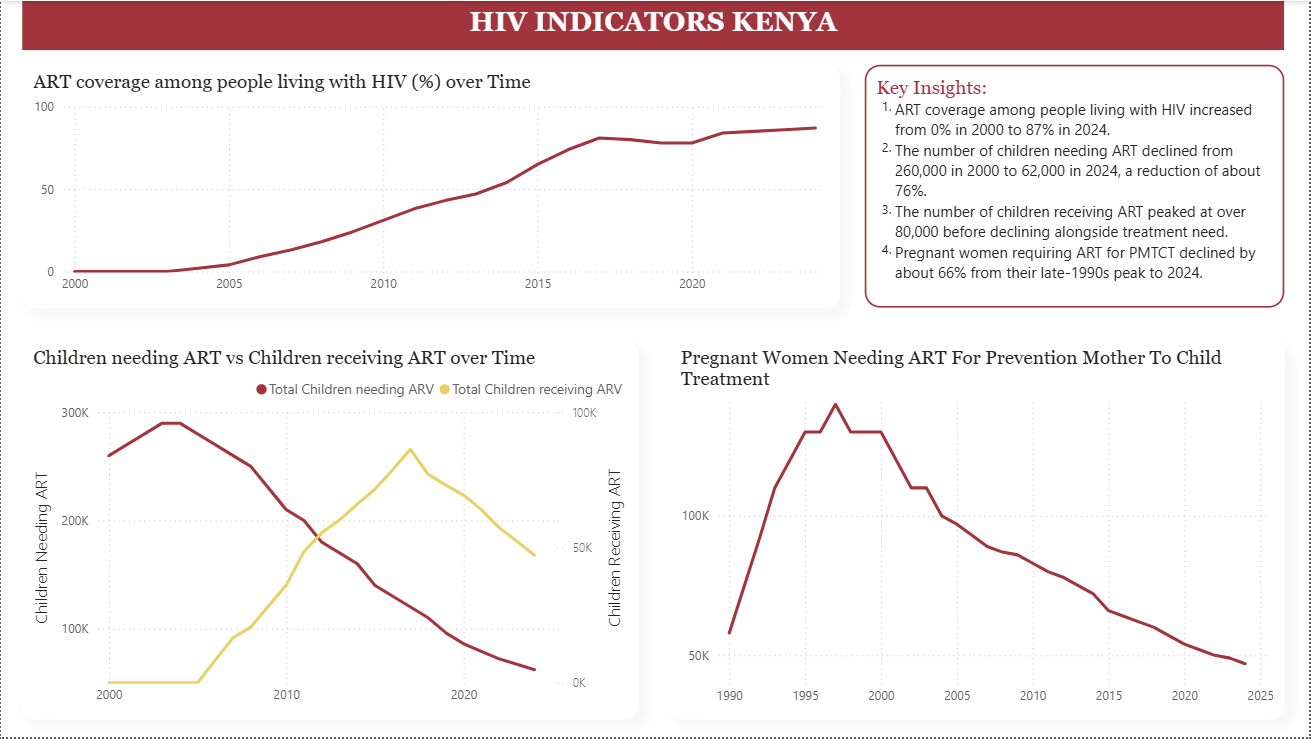

Layout of this report page (visuals, bound fields, positions):
{"tool":"powerbi","page":{"name":"PMTCT and Treatment","canvas":[1280,720],"ordinal":2},"visuals":[{"type":"lineChart","title":"Pregnant Women Needing ART For Prevention Mother To Child Treatment","fields":{"Category":["Date.Year"],"Y":["hiv_data_kenya.Total pregnant women living with HIV needing ARV for PMTCT"]},"box":[654.3,332.1,601.5,370.6],"z":0},{"type":"textbox","title":"Title","box":[21.3,0,1234.7,48],"z":1},{"type":"textbox","title":"Key Insights","box":[845.3,62.7,410.7,237.3],"z":2},{"type":"lineChart","title":"Children needing ART vs Children receiving ART over Time","fields":{"Y":["hiv_data_kenya.Total Children needing ARV"],"Category":["Date.Year"],"Y2":["hiv_data_kenya.Total Children receiving ARV"]},"box":[21.4,332.1,602.9,370.6],"z":3},{"type":"lineChart","title":"ART coverage among people living with HIV (%) over Time","fields":{"Y":["hiv_data_kenya.Total ART coverage among people living with HIV (%)"],"Category":["Date.Year"]},"box":[21.4,62.7,799.6,238],"z":4}]}

Visuals, with their boxes in screenshot pixels (x1, y1, x2, y2), scaled from the page's 1280x720 canvas onto the 1311x739 screenshot:
"Pregnant Women Needing ART For Prevention Mother To Child Treatment" lineChart: BBox(670, 341, 1286, 721)
"Title" textbox: BBox(22, 0, 1286, 49)
"Key Insights" textbox: BBox(866, 64, 1286, 308)
"Children needing ART vs Children receiving ART over Time" lineChart: BBox(22, 341, 639, 721)
"ART coverage among people living with HIV (%) over Time" lineChart: BBox(22, 64, 841, 309)
